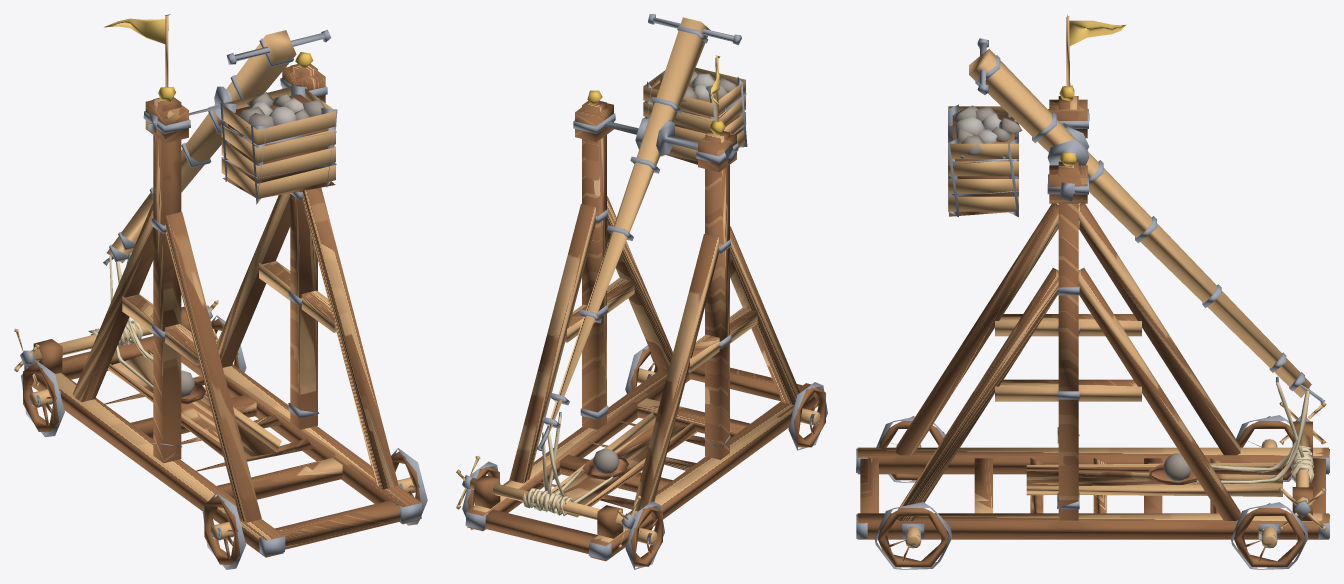
3 views of the same model, side by side, from view 1: azimuth 30°, elevation 25°; view 2: azimuth 150°, elevation 25°; view 3: azimuth 270°, elevation 25° (orthographic). The views are drawn at different scales.
Parts seen in each view (by area): view 1: trebuchet_body, trebuchet_counterweight, trebuchet_arm, trebuchet_fittings, trebuchet_wheel_front_left, trebuchet_wheel_rear_left, trebuchet_sling, trebuchet_wheel_front_right; view 2: trebuchet_body, trebuchet_arm, trebuchet_fittings, trebuchet_counterweight, trebuchet_sling, trebuchet_wheel_front_left, trebuchet_wheel_rear_left, trebuchet_wheel_front_right, trebuchet_wheel_rear_right; view 3: trebuchet_body, trebuchet_arm, trebuchet_counterweight, trebuchet_fittings, trebuchet_wheel_rear_right, trebuchet_wheel_front_right, trebuchet_sling, trebuchet_wheel_rear_left, trebuchet_wheel_front_left.
Boxes of the visible parts, x1=… form: trebuchet_body: x1=26, y1=63, x2=420, y2=557; trebuchet_counterweight: x1=220, y1=85, x2=337, y2=204; trebuchet_arm: x1=103, y1=29, x2=331, y2=265; trebuchet_fittings: x1=14, y1=14, x2=421, y2=556; trebuchet_wheel_front_left: x1=202, y1=492, x2=246, y2=569; trebuchet_wheel_rear_left: x1=21, y1=359, x2=64, y2=437; trebuchet_sling: x1=109, y1=256, x2=205, y2=404; trebuchet_wheel_front_right: x1=391, y1=448, x2=427, y2=525; trebuchet_body: x1=467, y1=100, x2=818, y2=561; trebuchet_arm: x1=536, y1=14, x2=741, y2=451; trebuchet_fittings: x1=456, y1=55, x2=817, y2=560; trebuchet_counterweight: x1=643, y1=67, x2=747, y2=164; trebuchet_sling: x1=542, y1=432, x2=628, y2=503; trebuchet_wheel_front_left: x1=788, y1=382, x2=827, y2=450; trebuchet_wheel_rear_left: x1=625, y1=501, x2=664, y2=569; trebuchet_wheel_front_right: x1=625, y1=345, x2=658, y2=393; trebuchet_wheel_rear_right: x1=462, y1=461, x2=500, y2=529; trebuchet_body: x1=857, y1=96, x2=1328, y2=539; trebuchet_arm: x1=969, y1=38, x2=1324, y2=403; trebuchet_counterweight: x1=948, y1=104, x2=1022, y2=217; trebuchet_fittings: x1=856, y1=14, x2=1329, y2=538; trebuchet_wheel_rear_right: x1=1230, y1=502, x2=1308, y2=569; trebuchet_wheel_front_right: x1=874, y1=502, x2=951, y2=569; trebuchet_sling: x1=1149, y1=388, x2=1309, y2=484; trebuchet_wheel_rear_left: x1=1236, y1=415, x2=1292, y2=481; trebuchet_wheel_front_left: x1=876, y1=416, x2=945, y2=482.
Bounding box in the file's own units: 3.32 × 7.5 × 6.72.
Materials: 10 (1 with a texture image).
